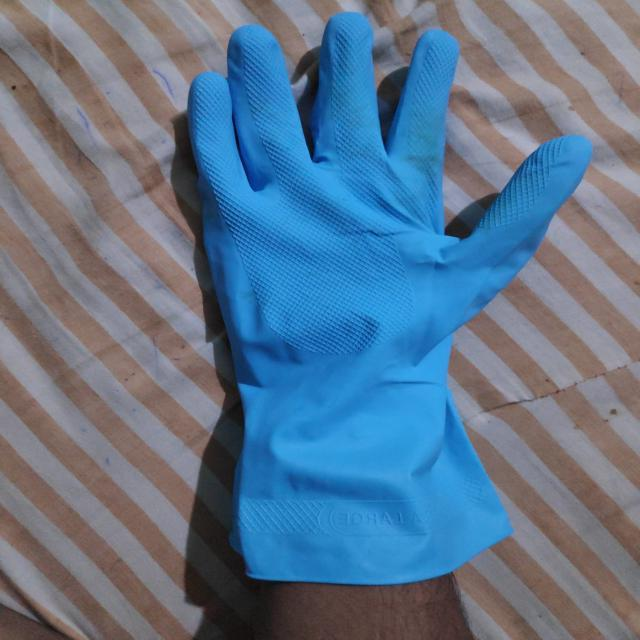gloved_hand: (180, 11, 602, 589)
